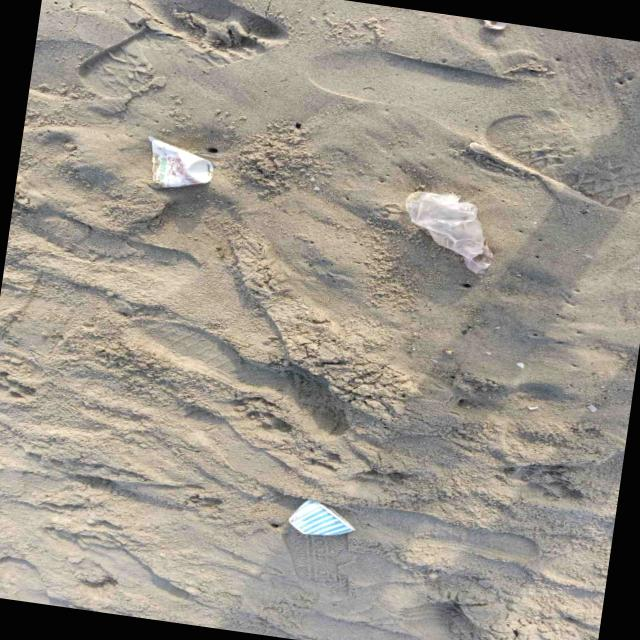ly_hop_giay: (149, 136, 214, 187), (289, 501, 356, 537)
nhua: (408, 191, 495, 273)
